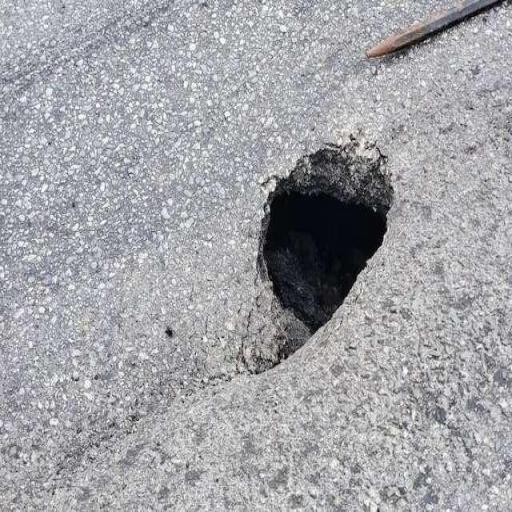Concentric_Crack: (239, 131, 393, 373)
